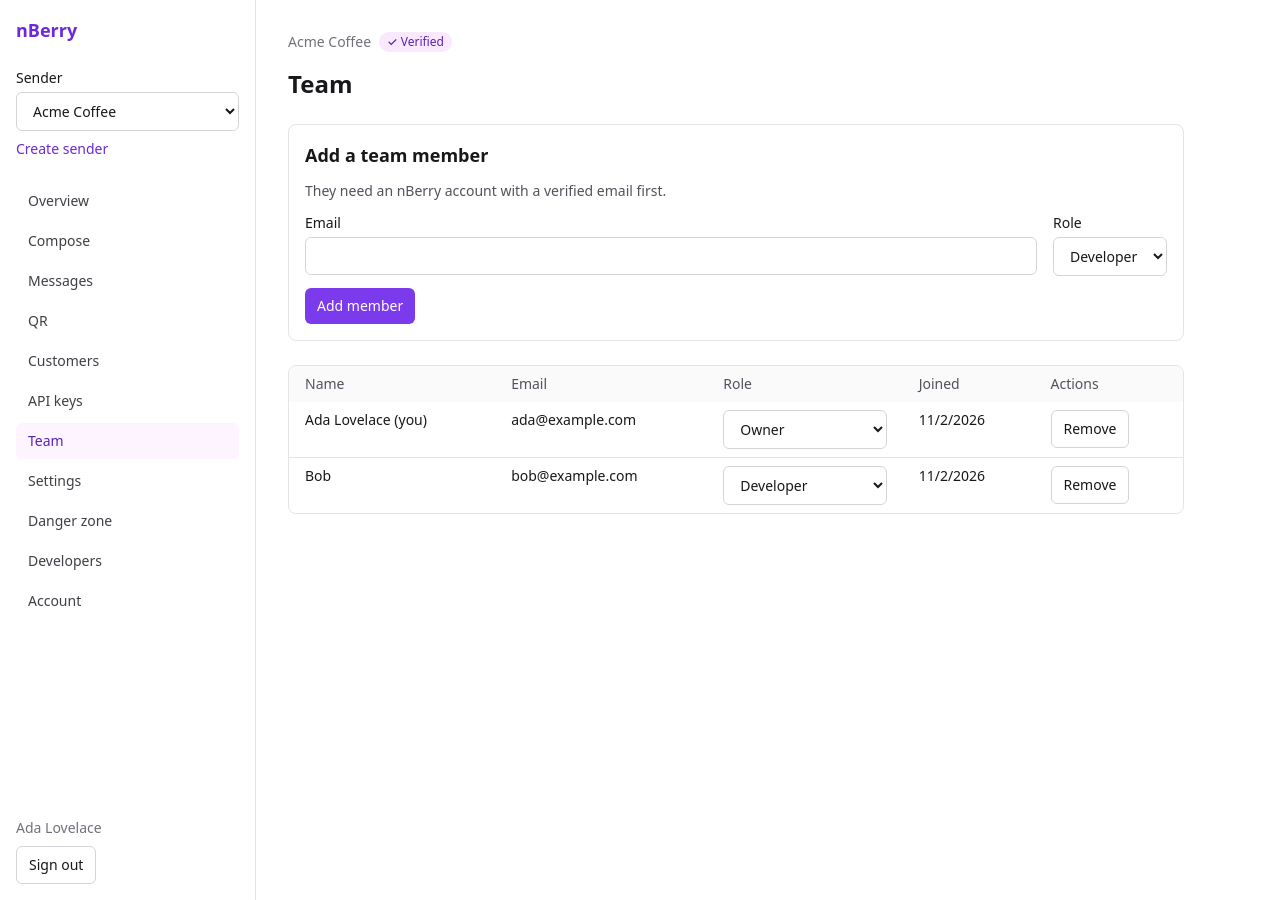
Test: team › last_owner on demote shows friendly copy
Select "Admin" in the dropdown named "Role for ada@example.com" in the row of "(you)" at point(805, 430), box [723,410,887,449]
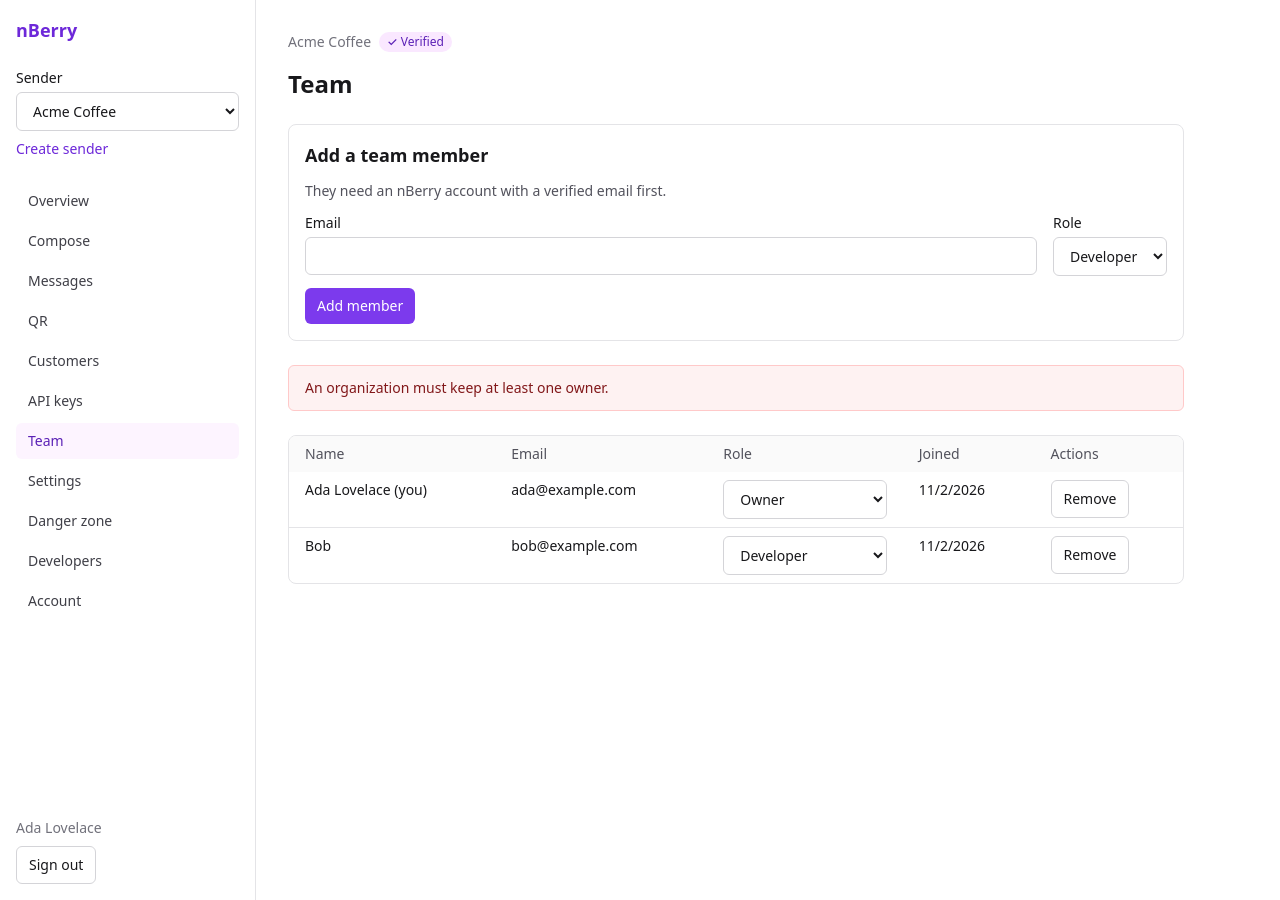
Check: the text "An organization must keep at least one owner." is shown, box [288,365,1184,411]
